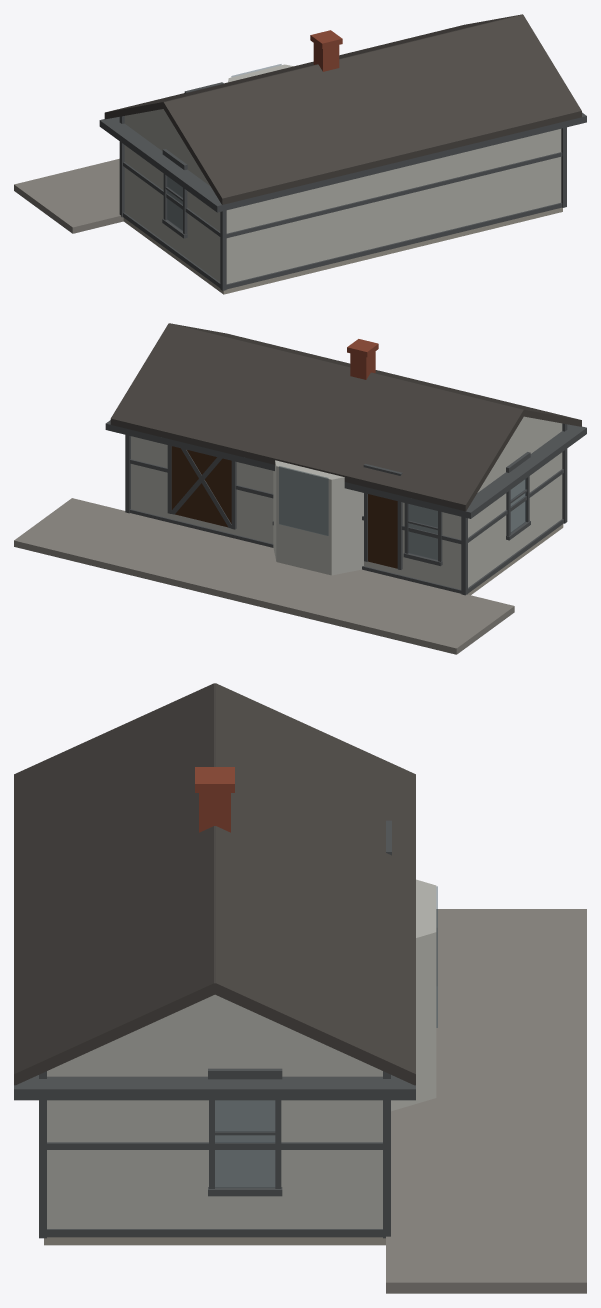
File: Standard_11_Depot.glb
The picture shows the model from 3 angles, top to bottom: view 1: azimuth 30°, elevation 25°; view 2: azimuth 150°, elevation 25°; view 3: azimuth 270°, elevation 25°; orthographic projection. The views are drawn at different scales.
Parts seen in each view (by area): view 1: roof, walls, trim, platform, foundation, chimney, sash, glass; view 2: roof, platform, walls, trim, doors, glass, sash, chimney; view 3: roof, platform, walls, trim, glass, sash, foundation, chimney.
Part boxes in pixels (x1,y1,x2,y2): roof: [104, 14, 581, 204]; walls: [124, 64, 561, 283]; trim: [99, 82, 586, 290]; platform: [14, 158, 123, 233]; foundation: [123, 207, 562, 294]; chimney: [310, 30, 342, 71]; sash: [162, 149, 187, 238]; glass: [167, 64, 281, 230]; roof: [110, 323, 581, 511]; platform: [14, 498, 514, 654]; walls: [131, 416, 562, 589]; trim: [105, 420, 586, 595]; doors: [171, 446, 397, 568]; glass: [279, 466, 525, 559]; sash: [272, 452, 530, 566]; chimney: [347, 339, 378, 379]; roof: [14, 683, 415, 1085]; platform: [386, 909, 586, 1293]; walls: [47, 879, 436, 1228]; trim: [14, 820, 415, 1238]; glass: [215, 886, 437, 1187]; sash: [208, 1068, 282, 1196]; foundation: [44, 1237, 385, 1245]; chimney: [195, 767, 234, 832].
Bounding box in the file's own units: 0.4625 × 0.1813 × 0.2995.
